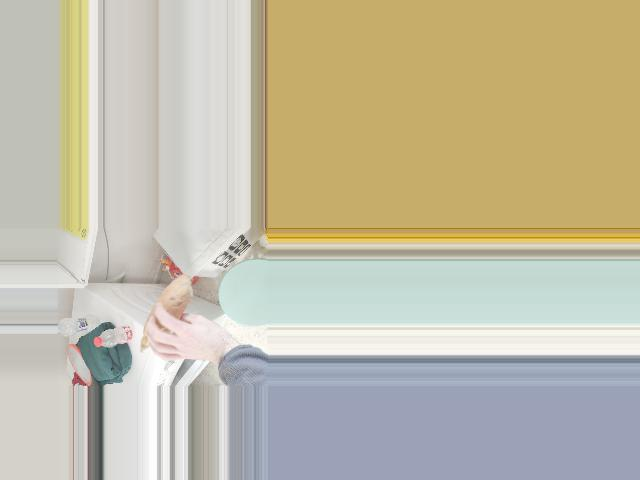sweet_potato: (143, 278, 193, 355)
